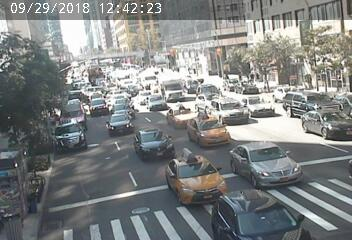car: (216, 193, 286, 232), (165, 155, 216, 193), (308, 110, 352, 137), (235, 143, 277, 170), (136, 132, 178, 157), (155, 76, 191, 104), (285, 87, 325, 109), (210, 99, 244, 122), (55, 124, 87, 148), (193, 118, 223, 141), (166, 104, 196, 127), (246, 95, 265, 119), (61, 99, 88, 114), (104, 113, 131, 128), (85, 100, 105, 113), (144, 96, 163, 109), (195, 94, 217, 105), (197, 82, 217, 94), (184, 75, 199, 88), (110, 92, 128, 102), (109, 106, 131, 114), (69, 87, 86, 96), (112, 100, 131, 107)
